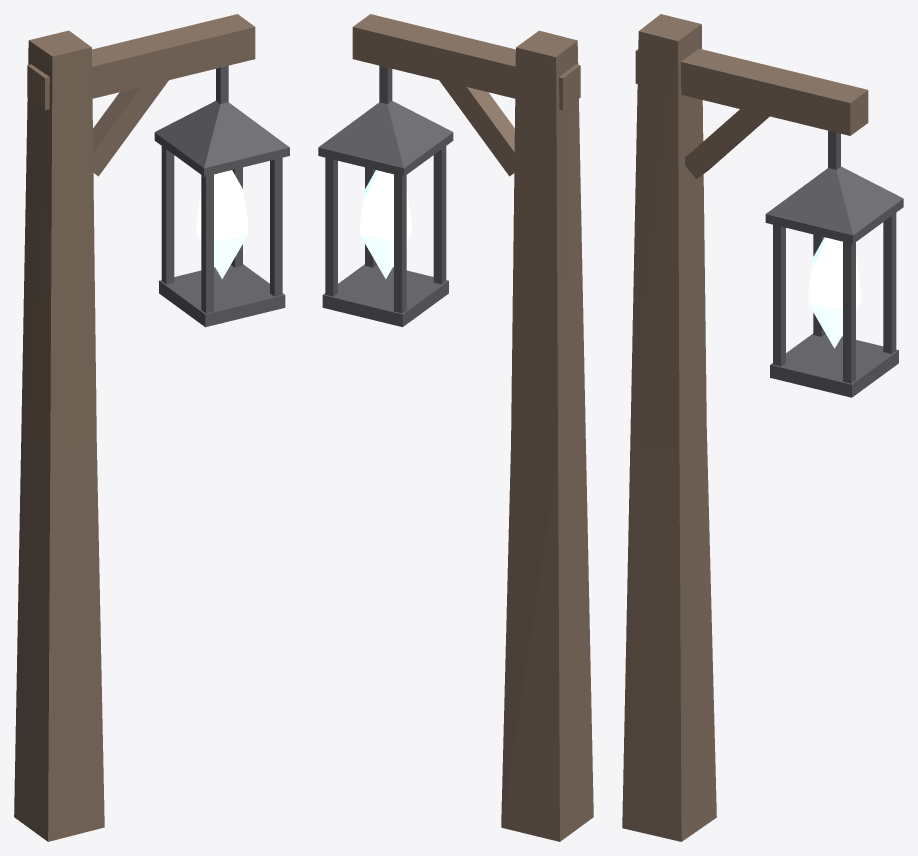
File: Lantern_Road.glb
The picture shows the model from 3 angles, left to right: view 1: azimuth 30°, elevation 25°; view 2: azimuth 150°, elevation 25°; view 3: azimuth 330°, elevation 25°; orthographic projection. The views are drawn at different scales.
Parts seen in each view (by area): view 1: Post, Iron, Crystal; view 2: Post, Iron, Crystal; view 3: Post, Iron, Crystal.
Boxes of the visible parts, x1,y1,x2,y2 form: Post: (14,14,255,841); Iron: (154,65,289,327); Crystal: (196,170,247,278); Post: (352,14,593,841); Iron: (318,65,453,327); Crystal: (360,170,411,278); Post: (622,14,868,841); Iron: (765,130,903,397); Crystal: (808,237,860,348).
Size of the model in its own units: 2.89 by 9.2 by 1.06.
